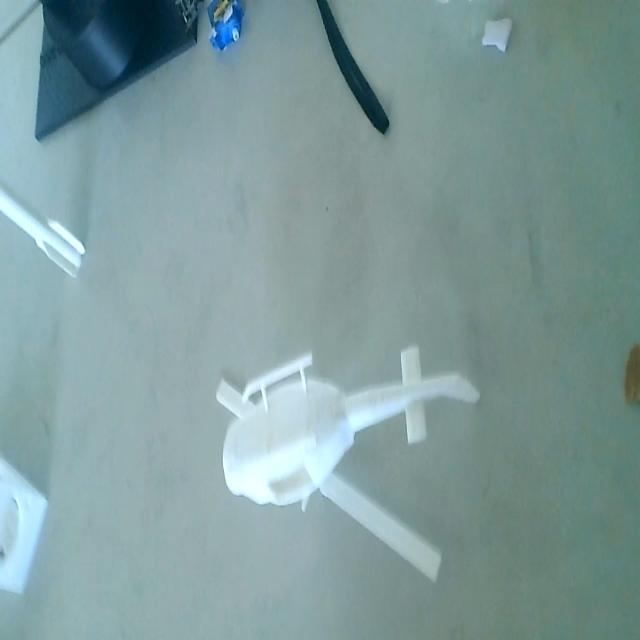Helicopter: (213, 342, 480, 595)
Rocket: (0, 173, 92, 287)
